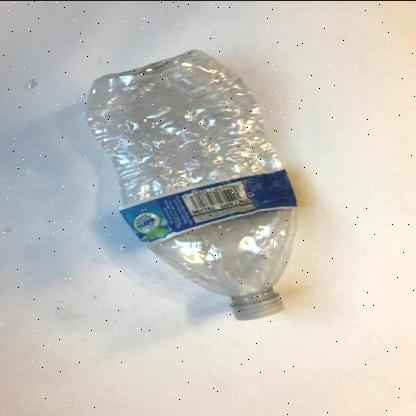Plastic Bottle: (87, 49, 297, 319)
